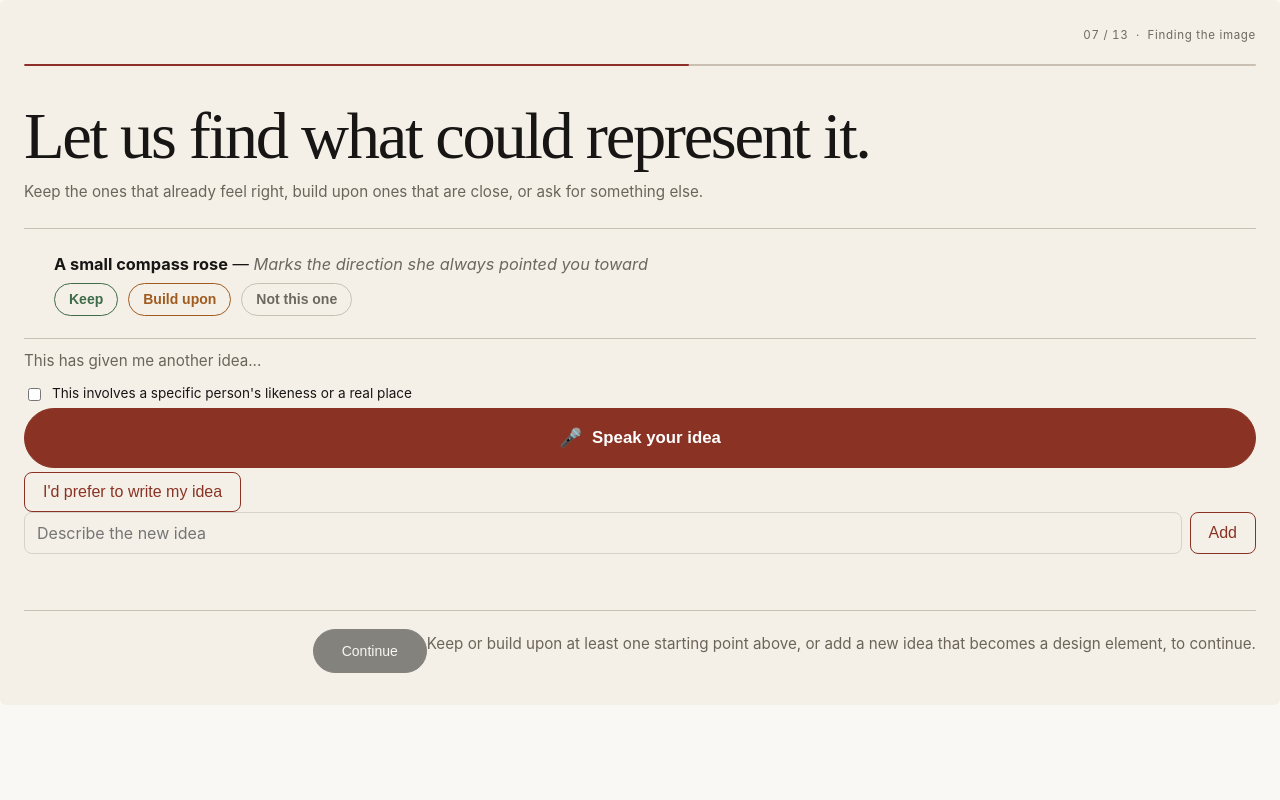
Test: ElementsDiscovery -- Continue disabled with no stated reason (live-test regression) › Continue is enabled with no message once a real idea is added
The width and height of the screenshot is (1280, 800).
Type "a small compass rose on the wrist" into the field with placeholder "Describe the new idea". click: (603, 533)
box: [24, 512, 1182, 554]
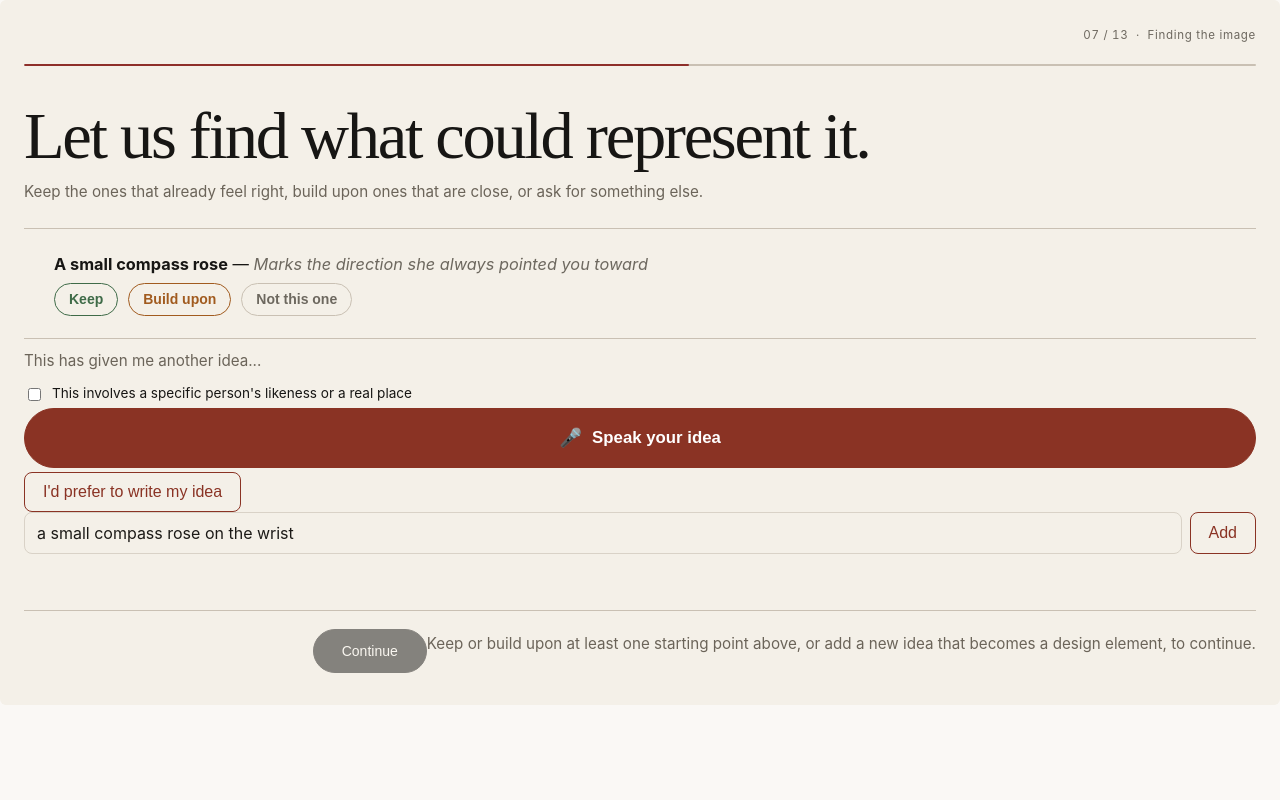
Click the button "Add". click: (1223, 533)
box: [1190, 512, 1256, 554]
(page scrolled)
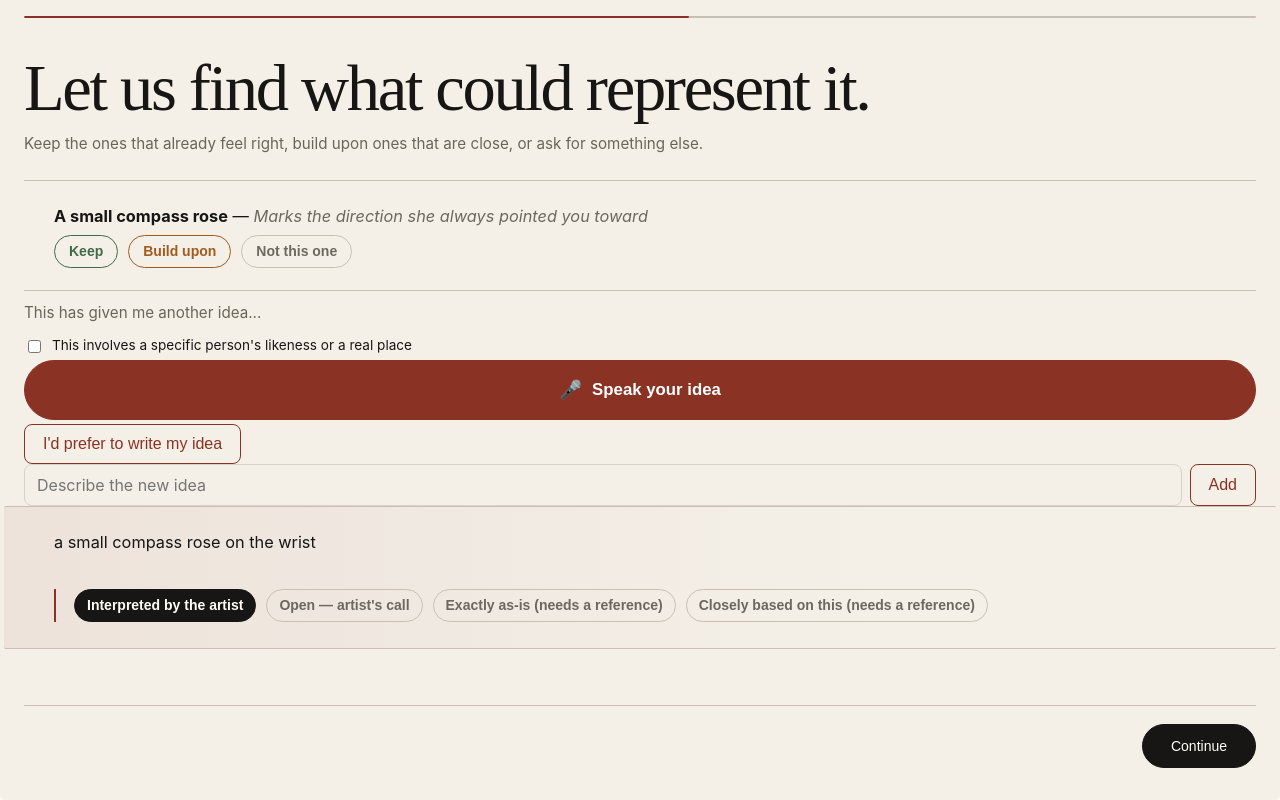
Now the button "Continue" is enabled, box [1142, 724, 1256, 768]
